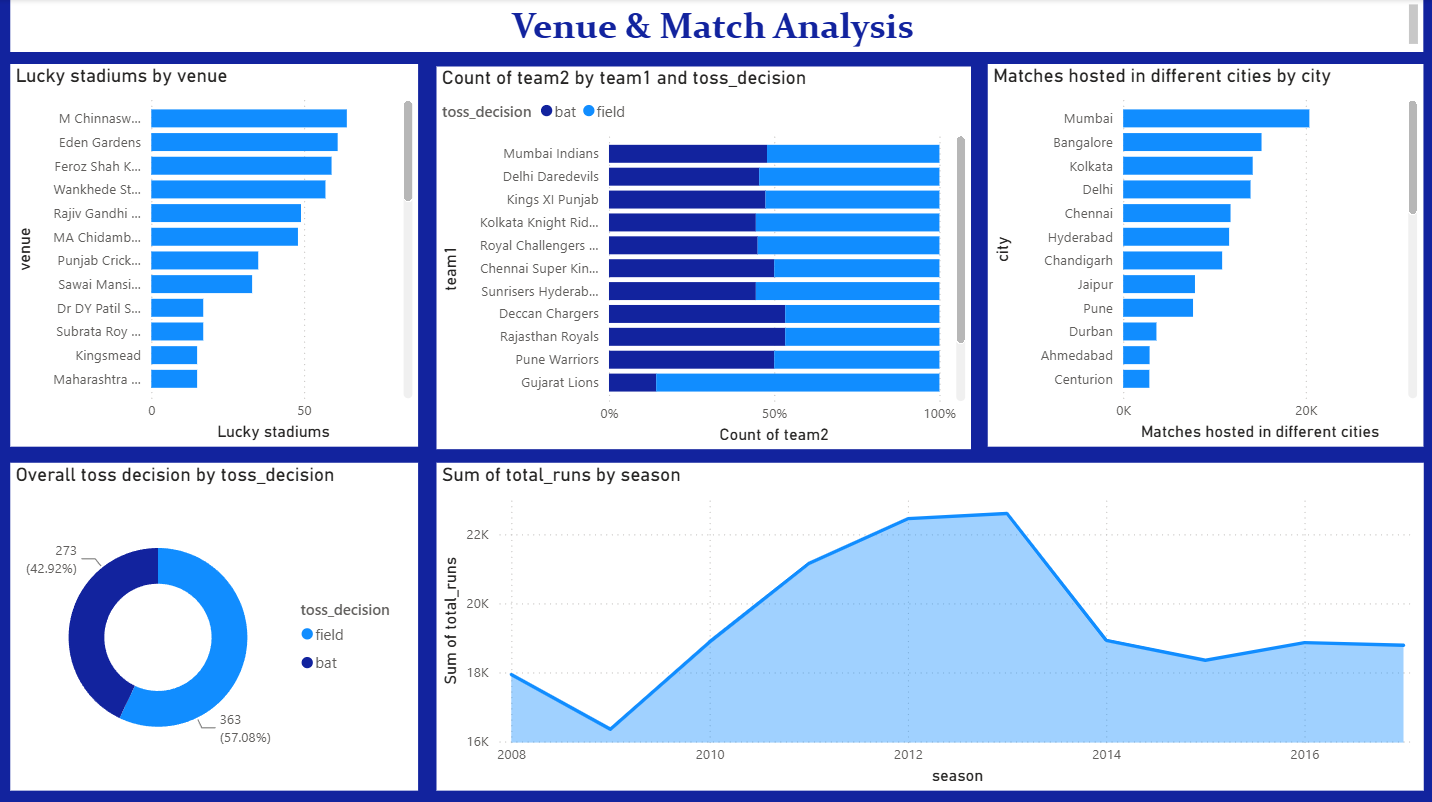

The page's visual inventory and layout, read from the dashboard file:
{"tool":"powerbi","page":{"name":"Page 3","canvas":[1280,720],"ordinal":2},"visuals":[{"type":"textbox","box":[10,0,1258.6,47],"z":0},{"type":"donutChart","fields":{"Y":["CountNonNull(matches (1) csv.toss_winner)"],"Category":["matches (1) csv.toss_decision"]},"box":[10,413.4,363.5,292.2],"z":1000},{"type":"clusteredBarChart","fields":{"Category":["matches (1) csv.city"],"Y":["CountNonNull(deliveries.match_id)"]},"box":[880.9,58.4,387.7,340.7],"z":2000},{"type":"hundredPercentStackedBarChart","fields":{"Category":["matches (1) csv.team1"],"Series":["matches (1) csv.toss_decision"],"Y":["Count(matches (1) csv.team2)"]},"box":[389.1,59.9,476.1,340.7],"z":3000},{"type":"barChart","fields":{"Y":["CountNonNull(matches (1) csv.winner)"],"Category":["matches (1) csv.venue"]},"box":[10,58.4,363.5,340.7],"z":4000},{"type":"areaChart","fields":{"Category":["matches (1) csv.season"],"Y":["Sum(deliveries.total_runs)"]},"box":[389.1,413.4,879.5,292.2],"z":5000}]}

Visuals, with their boxes in screenshot pixels (x1, y1, x2, y2), scaled from the page's 1280x720 canvas onto the 1432x802 screenshot:
textbox: (x1=11, y1=0, x2=1419, y2=52)
donutChart - CountNonNull(matches (1) csv.toss_winner) x matches (1) csv.toss_decision: (x1=11, y1=460, x2=418, y2=786)
clusteredBarChart - matches (1) csv.city x CountNonNull(deliveries.match_id): (x1=986, y1=65, x2=1419, y2=445)
hundredPercentStackedBarChart - matches (1) csv.team1 x matches (1) csv.toss_decision: (x1=435, y1=67, x2=968, y2=446)
barChart - CountNonNull(matches (1) csv.winner) x matches (1) csv.venue: (x1=11, y1=65, x2=418, y2=445)
areaChart - matches (1) csv.season x Sum(deliveries.total_runs): (x1=435, y1=460, x2=1419, y2=786)
